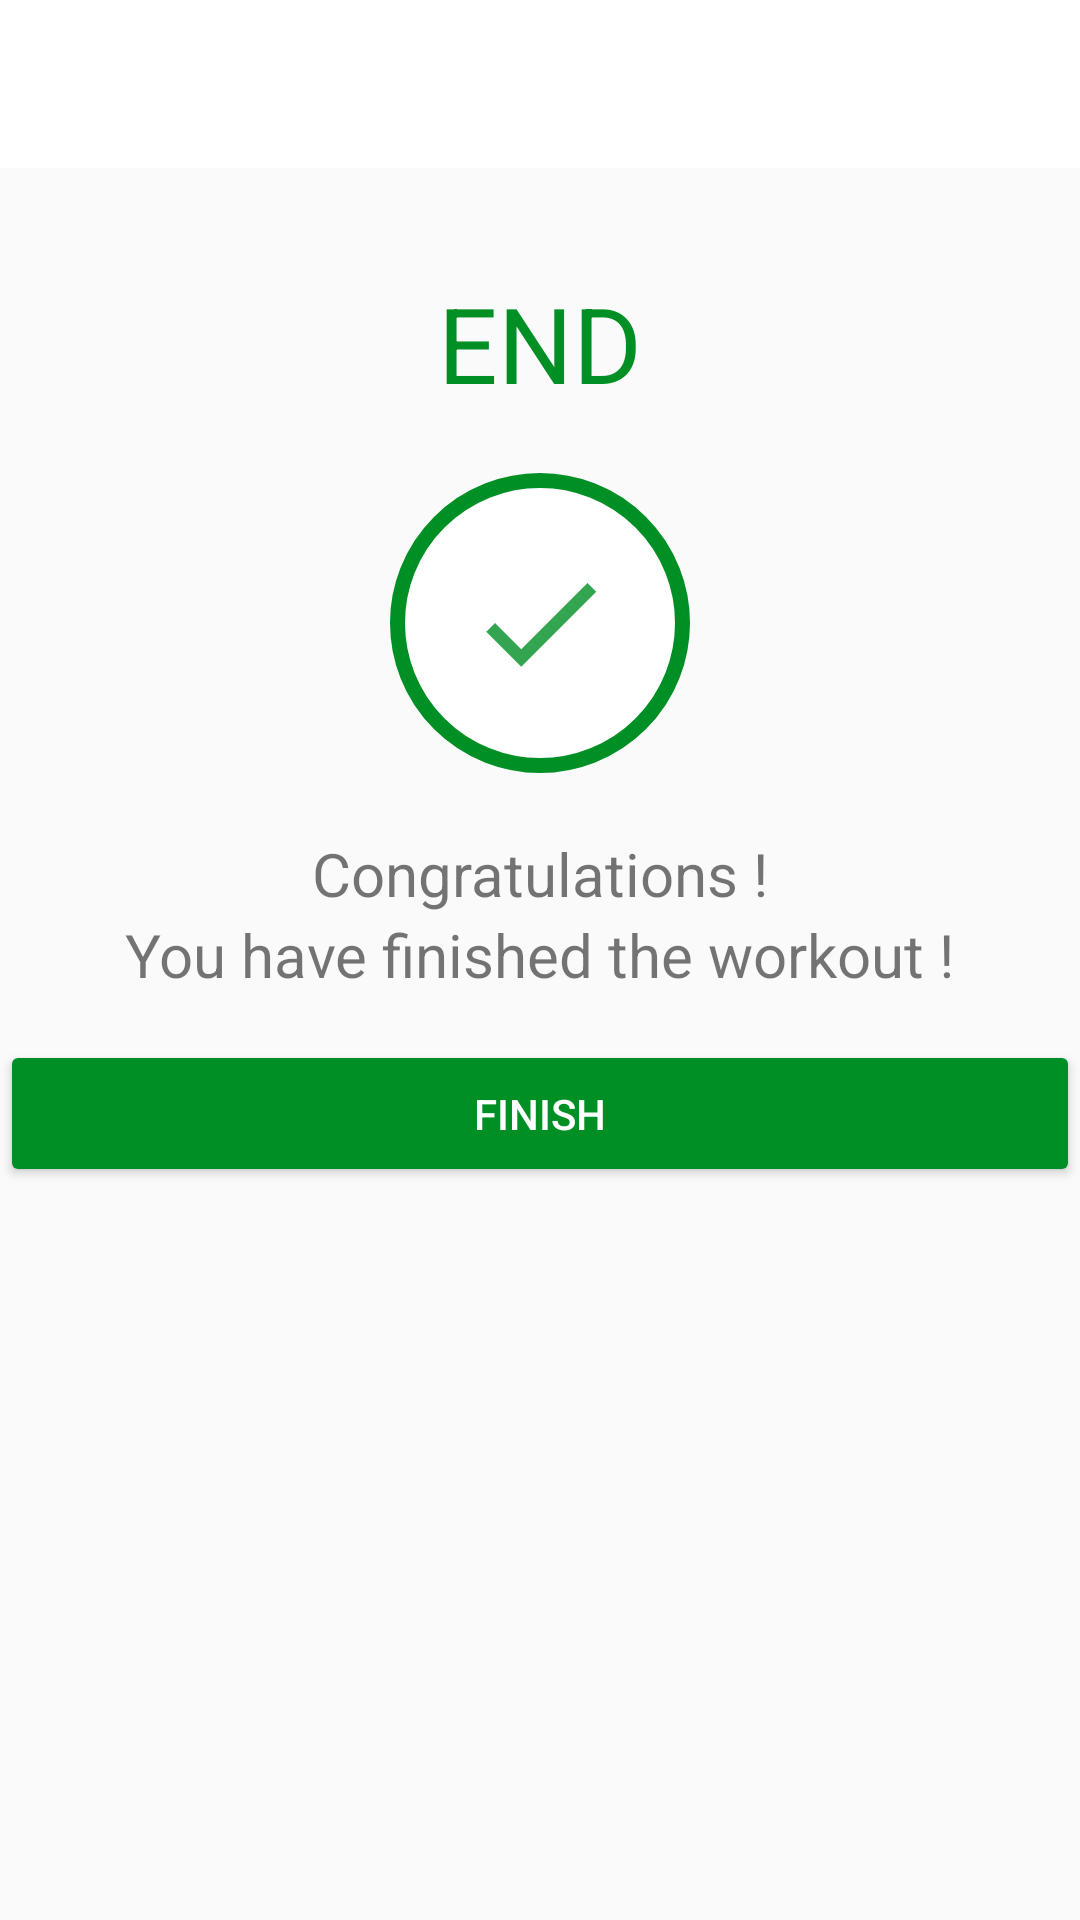

Locate icon controls on the screen. Image size 1080px×1920px, boxes as box=[x1, y1, x2, y2].
done: box=[486, 583, 596, 667]
